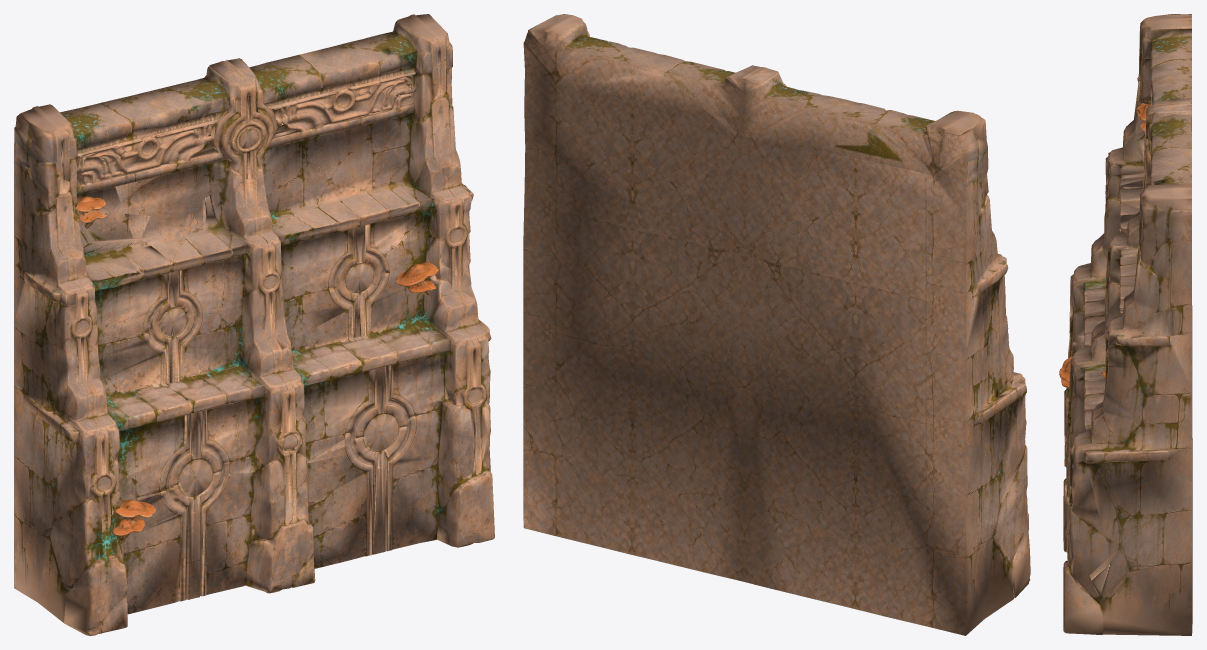
File: citadel_terrace.fbx
3 renders of one model, left to right at view 1: azimuth 30°, elevation 25°; view 2: azimuth 150°, elevation 25°; view 3: azimuth 270°, elevation 25°, orthographic. The views are drawn at different scales.
Parts seen in each view (by area): view 1: citadel_terrace; view 2: citadel_terrace; view 3: citadel_terrace.
Part boxes in pixels (left/top/right/bottom): citadel_terrace: left=14, top=14, right=494, bottom=635; citadel_terrace: left=523, top=14, right=1030, bottom=635; citadel_terrace: left=1059, top=14, right=1192, bottom=635.
Size of the model in its own units: 22.44 by 24 by 6.61.
